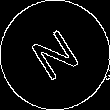N_SE: (25, 23, 85, 87)
